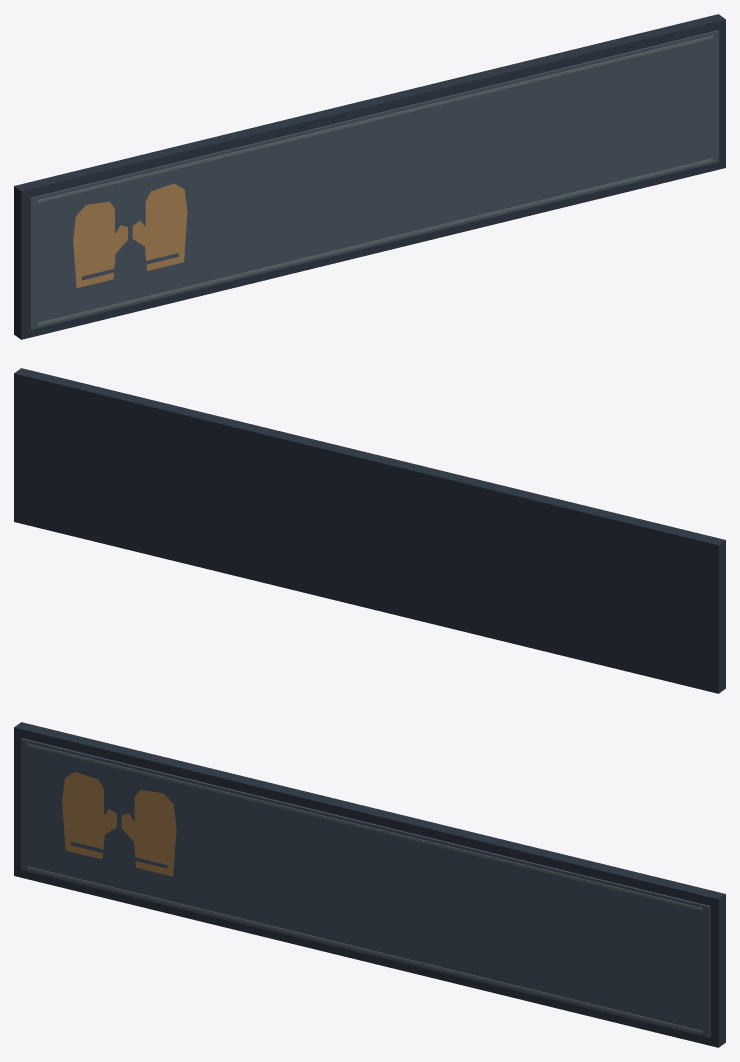
The model's file is sign_panel.glb.
3 renders of one model, top to bottom at view 1: azimuth 30°, elevation 25°; view 2: azimuth 150°, elevation 25°; view 3: azimuth 330°, elevation 25°, orthographic.
Parts seen in each view (by area): view 1: sign_panel_Sign, sign_panel_Steel, sign_panel_Bronze, sign_panel_Trim; view 2: sign_panel_Steel; view 3: sign_panel_Sign, sign_panel_Steel, sign_panel_Bronze, sign_panel_Trim.
Boxes of the visible parts, box(x1,y1,x2,y2) form: sign_panel_Sign: box(29, 30, 718, 329); sign_panel_Steel: box(14, 14, 725, 339); sign_panel_Bronze: box(73, 183, 187, 287); sign_panel_Trim: box(37, 35, 712, 325); sign_panel_Steel: box(14, 368, 725, 693); sign_panel_Sign: box(21, 738, 710, 1037); sign_panel_Steel: box(14, 722, 725, 1047); sign_panel_Bronze: box(62, 772, 176, 876); sign_panel_Trim: box(27, 743, 702, 1033).
Bounding box in the file's own units: 7.2 × 1.45 × 0.169.
